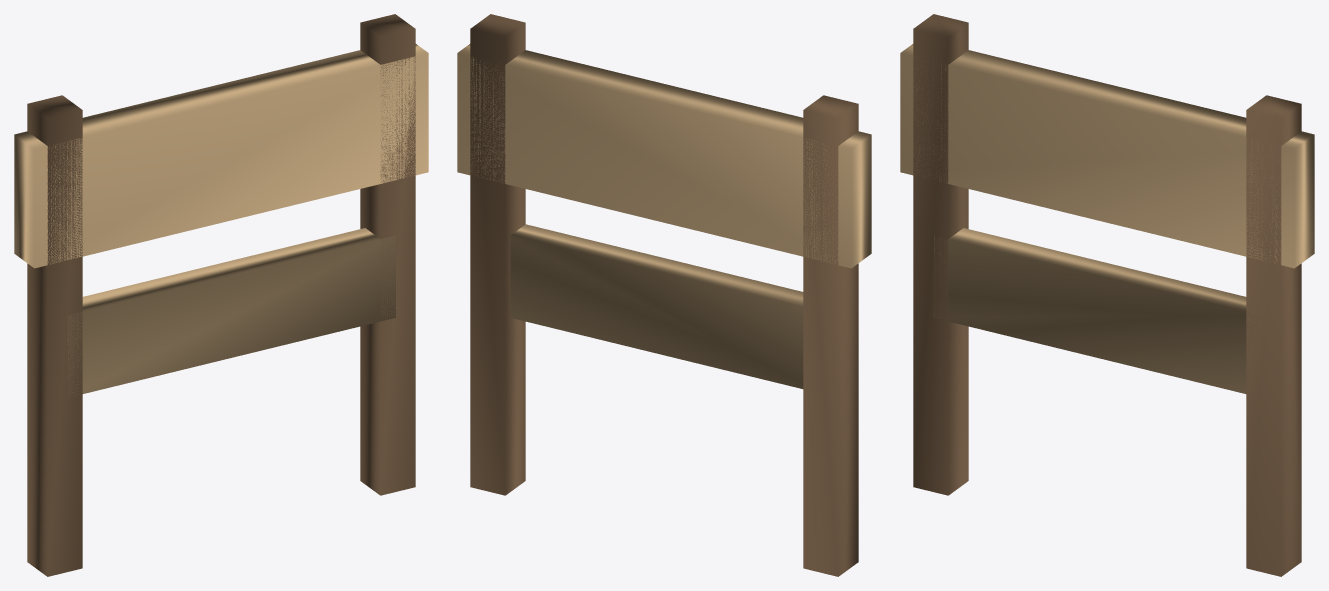
File: trail_sign.glb
The picture shows the model from 3 angles, left to right: view 1: azimuth 30°, elevation 25°; view 2: azimuth 150°, elevation 25°; view 3: azimuth 330°, elevation 25°; orthographic projection.
Visible parts, largest first — view 1: trail_sign; view 2: trail_sign; view 3: trail_sign.
Boxes of the visible parts, bbox=[...] form: trail_sign: bbox=[14, 14, 428, 576]; trail_sign: bbox=[457, 14, 871, 576]; trail_sign: bbox=[900, 14, 1314, 576].
Bounding box in the file's own units: 0.9 × 1 × 0.08.
